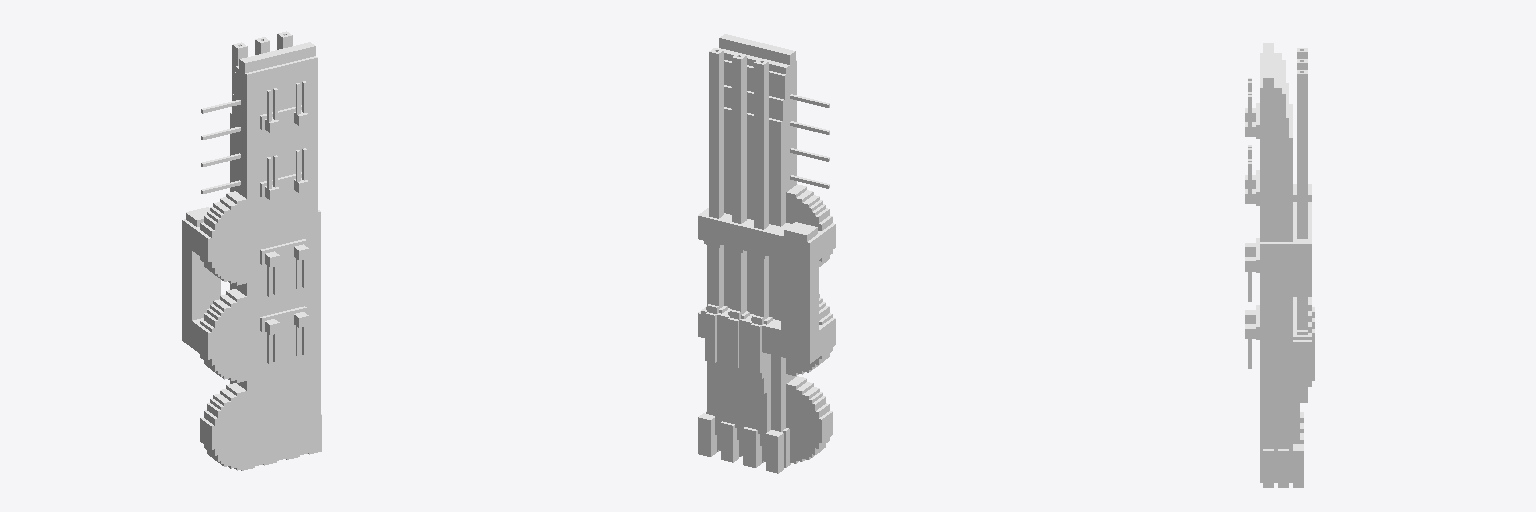
The model's file is Kongo_class_2.obj.
The picture shows the model from 3 angles: view 1: azimuth 30°, elevation 25°; view 2: azimuth 150°, elevation 25°; view 3: azimuth 270°, elevation 25°; orthographic projection.
Visible parts, largest first — view 1: object 1; view 2: object 1; view 3: object 1.
Part boxes in pixels (left/top/right/bottom): object 1: left=182, top=31, right=321, bottom=470; object 1: left=698, top=34, right=835, bottom=473; object 1: left=1245, top=43, right=1314, bottom=487.
Size of the model in its own units: 3.6 by 12.1 by 1.9.